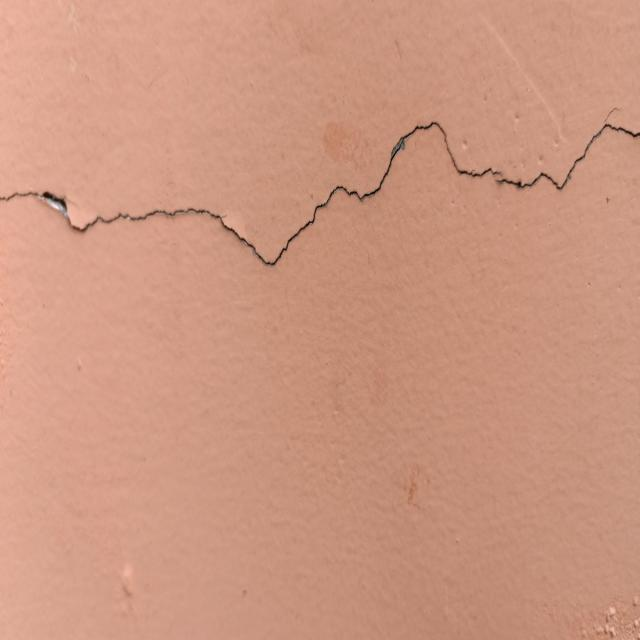curved crack: (0, 118, 639, 266)
